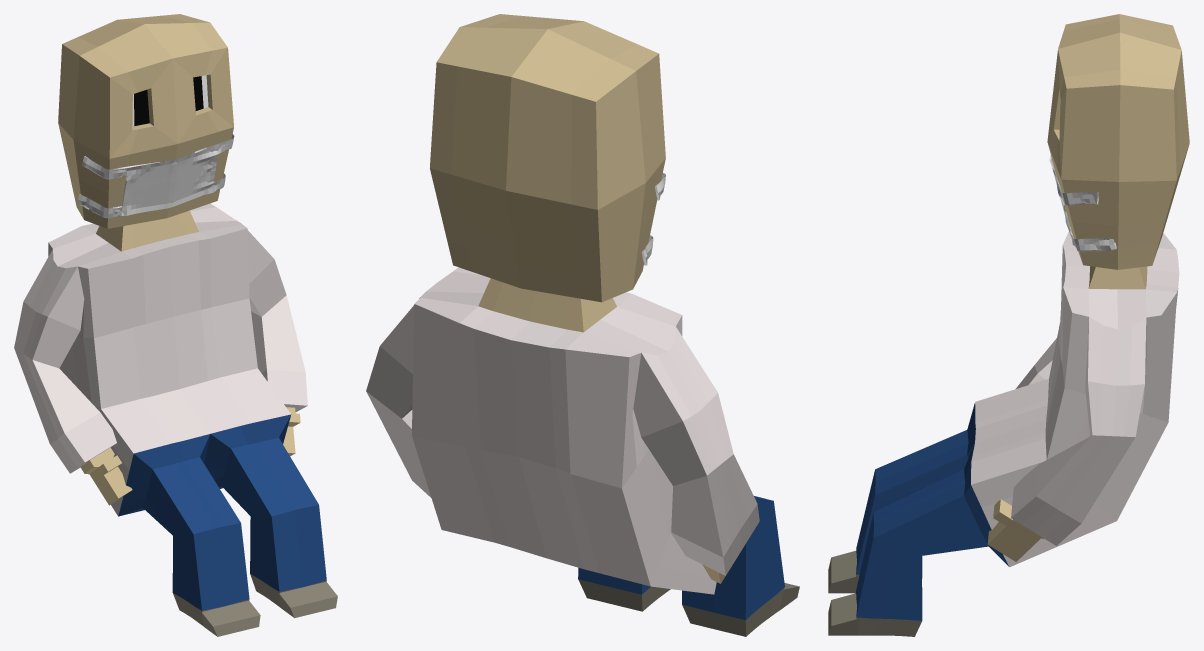
File: NpcSitting.fbx
3 views of the same model, side by side, from view 1: azimuth 30°, elevation 25°; view 2: azimuth 150°, elevation 25°; view 3: azimuth 270°, elevation 25° (orthographic). The views are drawn at different scales.
Visible parts, largest first — view 1: Object; view 2: Object; view 3: Object.
Part boxes in pixels (x1=…): Object: x1=14, y1=14, x2=337, y2=636; Object: x1=366, y1=14, x2=799, y2=636; Object: x1=828, y1=14, x2=1189, y2=636.
Size of the model in its own units: 3.27 by 3.56 by 6.2.
